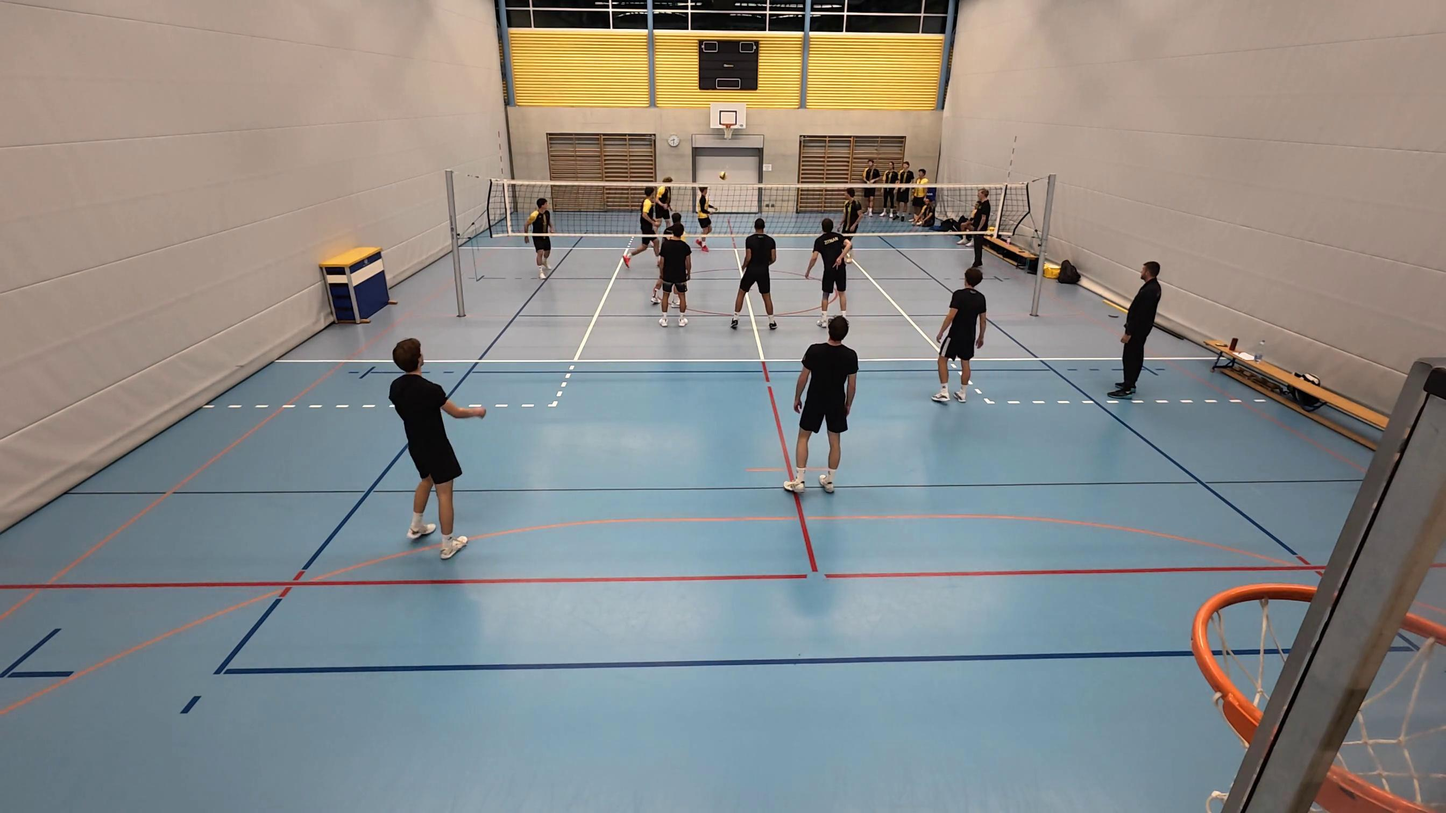Player: (389, 338, 485, 559), (783, 317, 858, 494), (933, 267, 989, 404), (731, 218, 777, 330), (804, 218, 850, 328), (654, 213, 697, 327), (622, 177, 664, 267), (646, 174, 677, 250), (526, 197, 552, 279), (838, 190, 864, 261), (694, 184, 719, 253)
ball: (717, 169, 728, 181)
